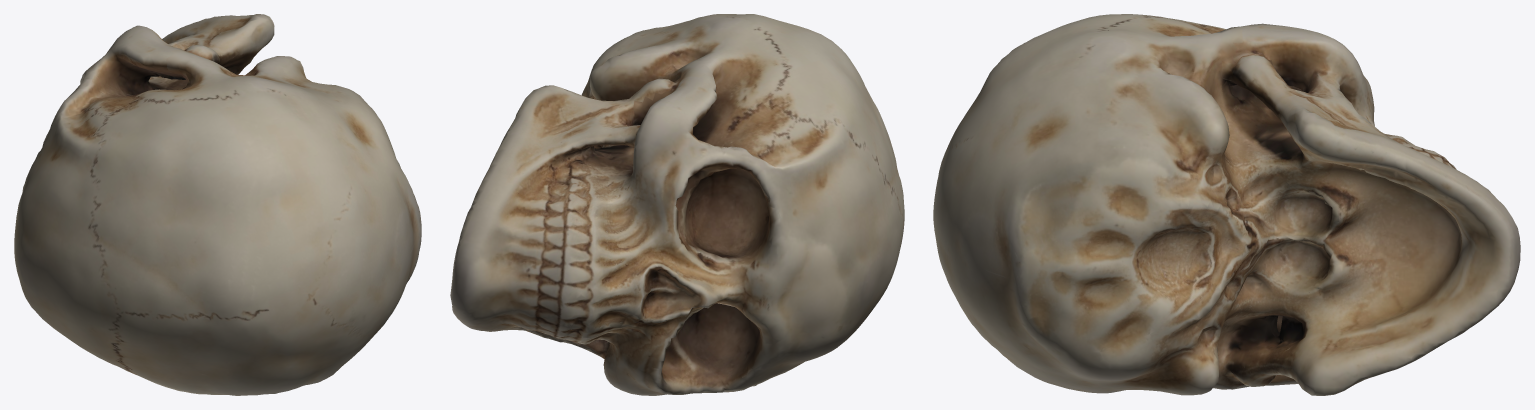
Rendered from skull.glb.
The picture shows the model from 3 angles, left to right: view 1: azimuth 30°, elevation 25°; view 2: azimuth 150°, elevation 25°; view 3: azimuth 270°, elevation 25°; orthographic projection. The views are drawn at different scales.
Parts seen in each view (by area): view 1: Skull_HP.001; view 2: Skull_HP.001; view 3: Skull_HP.001.
Boxes of the visible parts, x1=… form: Skull_HP.001: x1=14, y1=14, x2=421, y2=395; Skull_HP.001: x1=450, y1=14, x2=904, y2=395; Skull_HP.001: x1=933, y1=14, x2=1520, y2=395.
Bounding box in the file's own units: 2336 × 2129 × 3287.
Materials: 1 (1 with a texture image).
